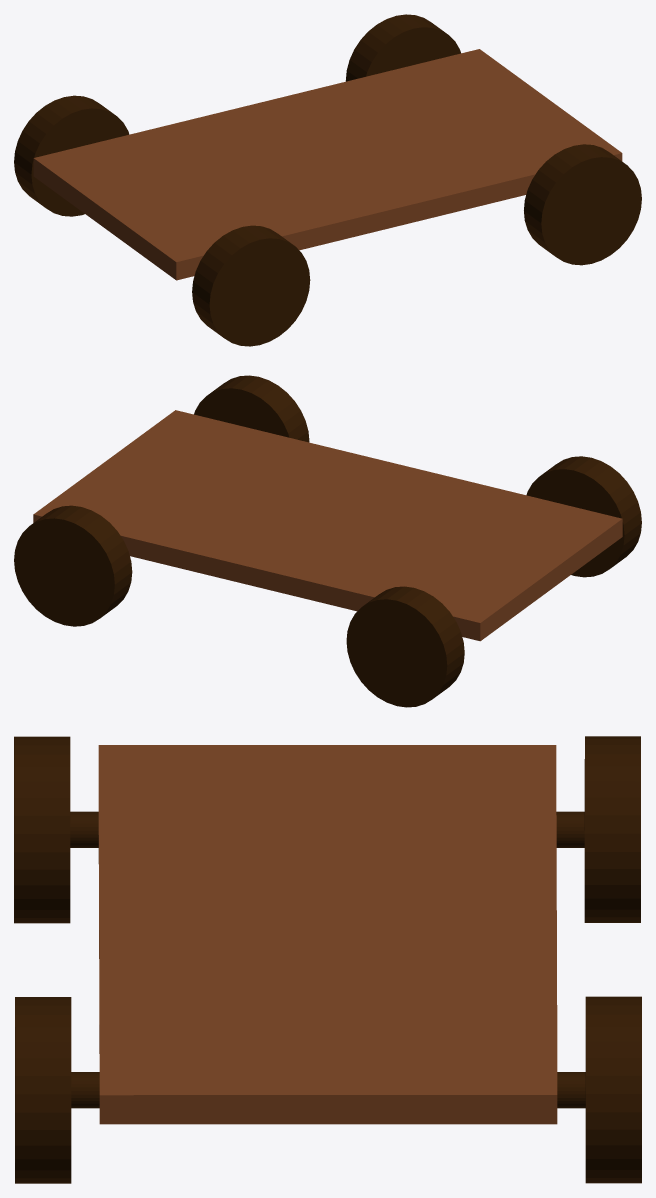
File: Transport.fbx
3 renders of one model, top to bottom at view 1: azimuth 30°, elevation 25°; view 2: azimuth 150°, elevation 25°; view 3: azimuth 270°, elevation 25°, orthographic. The views are drawn at different scales.
Visible parts, largest first — view 1: Bottom, BRight, FRight, BLeft, FLeft; view 2: Bottom, FLeft, BLeft, BRight, FRight; view 3: Bottom, FLeft, BRight, FRight, BLeft, FShaft, BShaft.
Boxes of the visible parts, bbox=[...] form: Bottom: bbox=[33, 49, 622, 280]; BRight: bbox=[192, 225, 310, 346]; FRight: bbox=[524, 144, 641, 265]; BLeft: bbox=[14, 95, 129, 216]; FLeft: bbox=[345, 14, 460, 81]; Bottom: bbox=[33, 410, 622, 641]; FLeft: bbox=[14, 505, 132, 626]; BLeft: bbox=[346, 586, 464, 707]; BRight: bbox=[526, 456, 641, 577]; FRight: bbox=[194, 375, 309, 442]; Bottom: bbox=[98, 745, 557, 1124]; FLeft: bbox=[585, 996, 641, 1183]; BRight: bbox=[14, 736, 70, 923]; FRight: bbox=[15, 997, 71, 1183]; BLeft: bbox=[584, 736, 640, 922]; FShaft: bbox=[71, 1072, 585, 1108]; BShaft: bbox=[70, 811, 584, 847].
Size of the model in its own units: 511 by 115 by 387.
